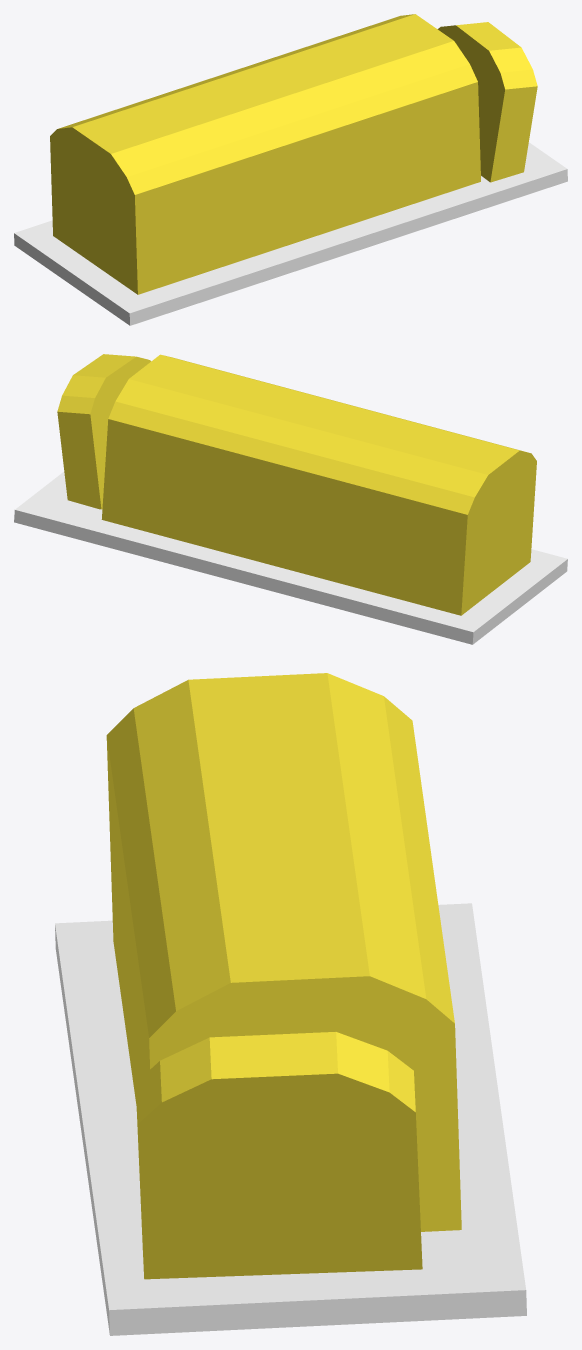
The model's file is butter.glb.
3 views of the same model, one above another, from view 1: azimuth 30°, elevation 25°; view 2: azimuth 150°, elevation 25°; view 3: azimuth 270°, elevation 25° (orthographic). The views are drawn at different scales.
Parts seen in each view (by area): view 1: Node; view 2: Node; view 3: Node.
Boxes of the visible parts, x1,y1,x2,y2 form: Node: [14, 14, 567, 325]; Node: [14, 354, 567, 644]; Node: [55, 673, 526, 1335].
Bounding box in the file's own units: 0.3776 × 0.1284 × 0.1695.
